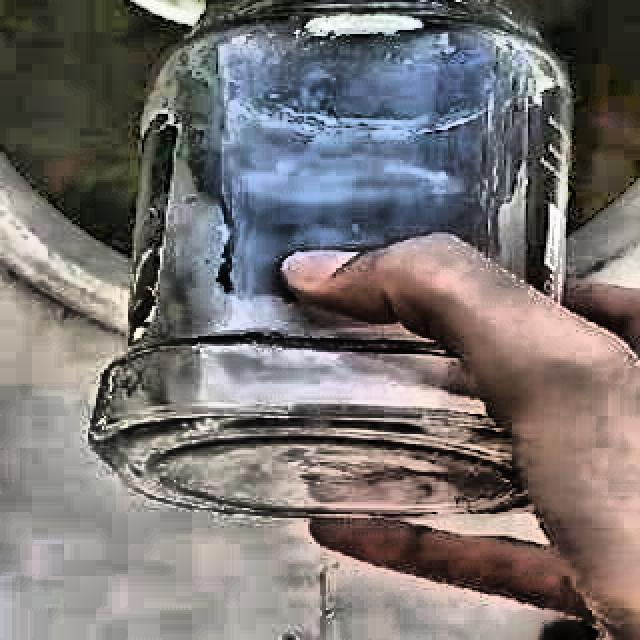glass: (93, 0, 568, 517)
